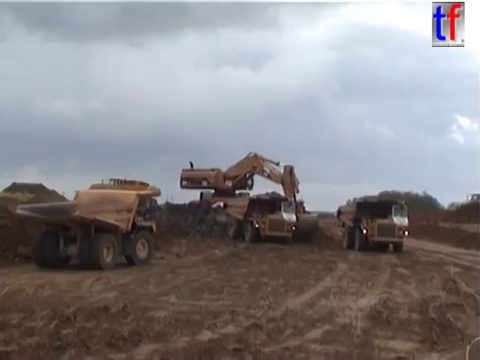excavator: (177, 149, 320, 243), (184, 191, 265, 218)
truck: (14, 181, 161, 271), (335, 198, 410, 254), (218, 194, 297, 243), (95, 176, 162, 213), (463, 191, 480, 207)
